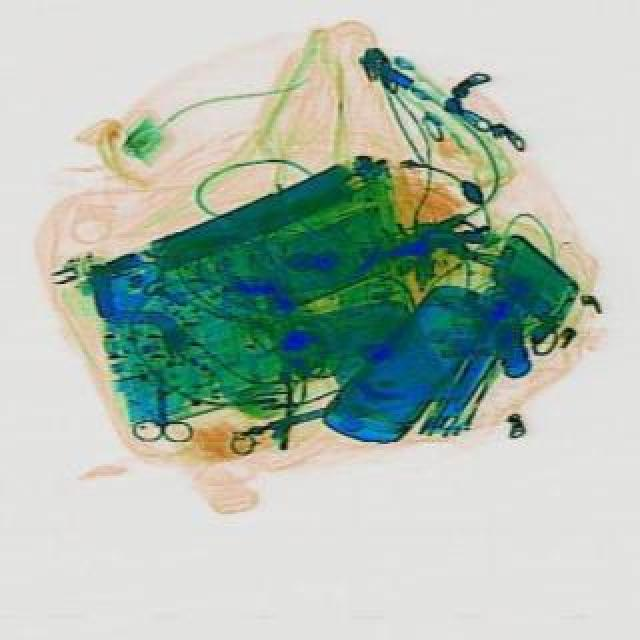pliers: (128, 374, 190, 442)
